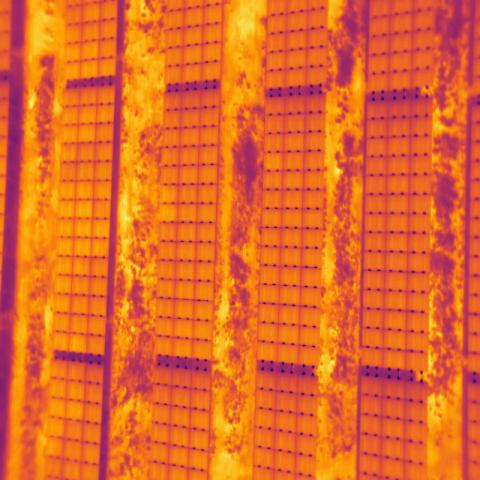fault: (262, 151, 280, 169)
